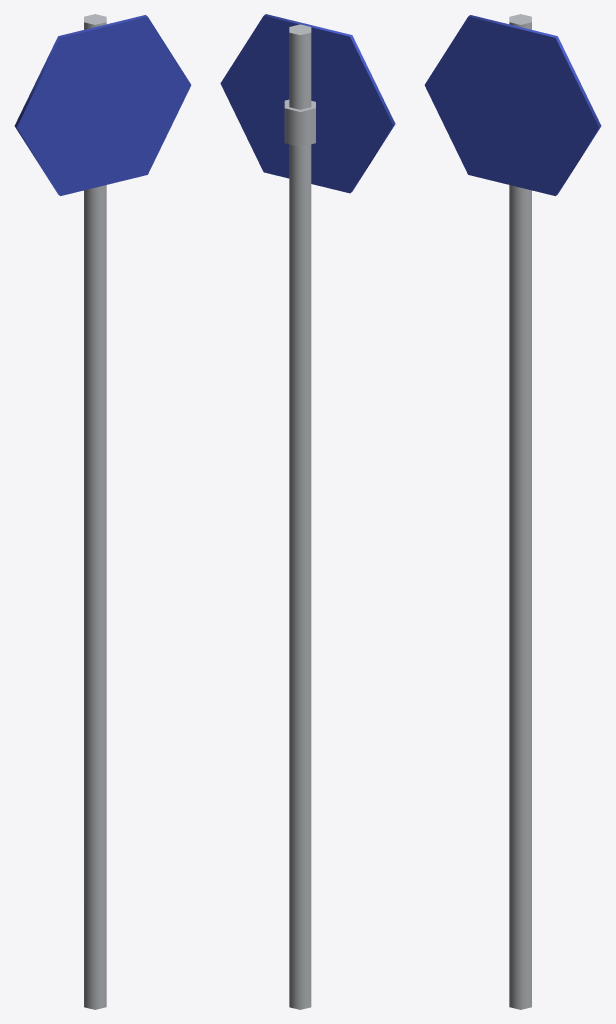
File: SM_trafficsign_03.fbx
3 renders of one model, left to right at view 1: azimuth 30°, elevation 25°; view 2: azimuth 150°, elevation 25°; view 3: azimuth 330°, elevation 25°, orthographic.
Visible parts, largest first — view 1: Cylinder041; view 2: Cylinder041; view 3: Cylinder041.
Part boxes in pixels (left/top/right/bottom): Cylinder041: left=14, top=14, right=191, bottom=1009; Cylinder041: left=220, top=14, right=395, bottom=1009; Cylinder041: left=424, top=14, right=601, bottom=1009.
Bounding box in the file's own units: 22.84 × 3.8 × 123.
